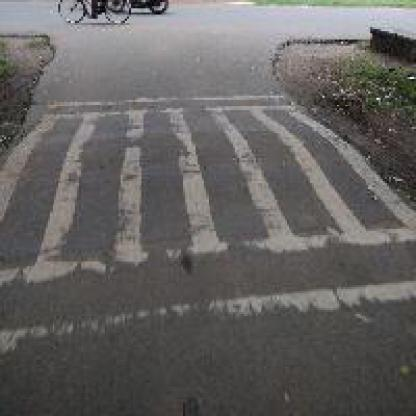Speed Bump: (0, 92, 410, 354)
